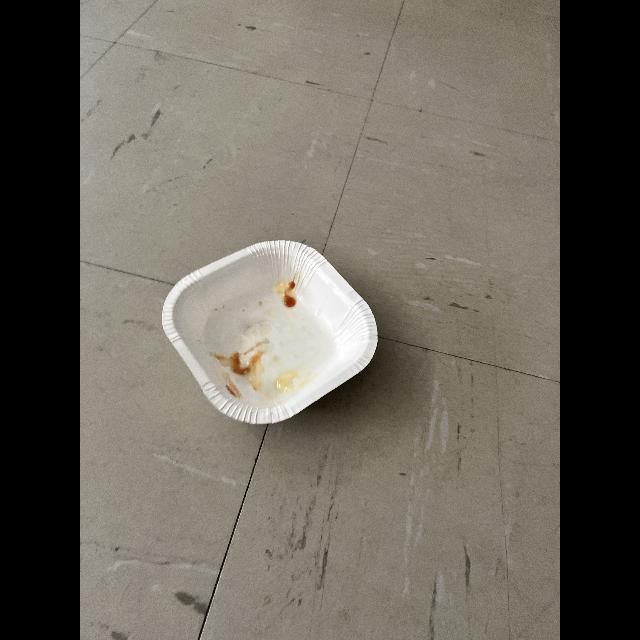cardboard_bowl: (147, 231, 383, 445)
